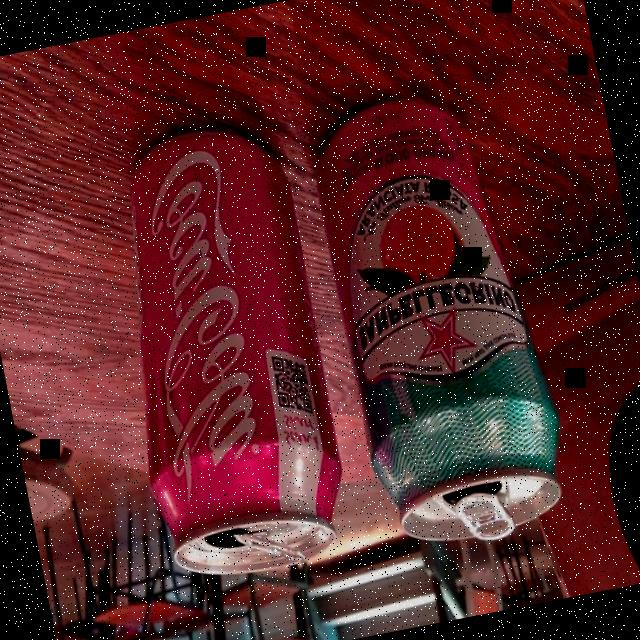can: (291, 50, 593, 569), (77, 103, 372, 602)
